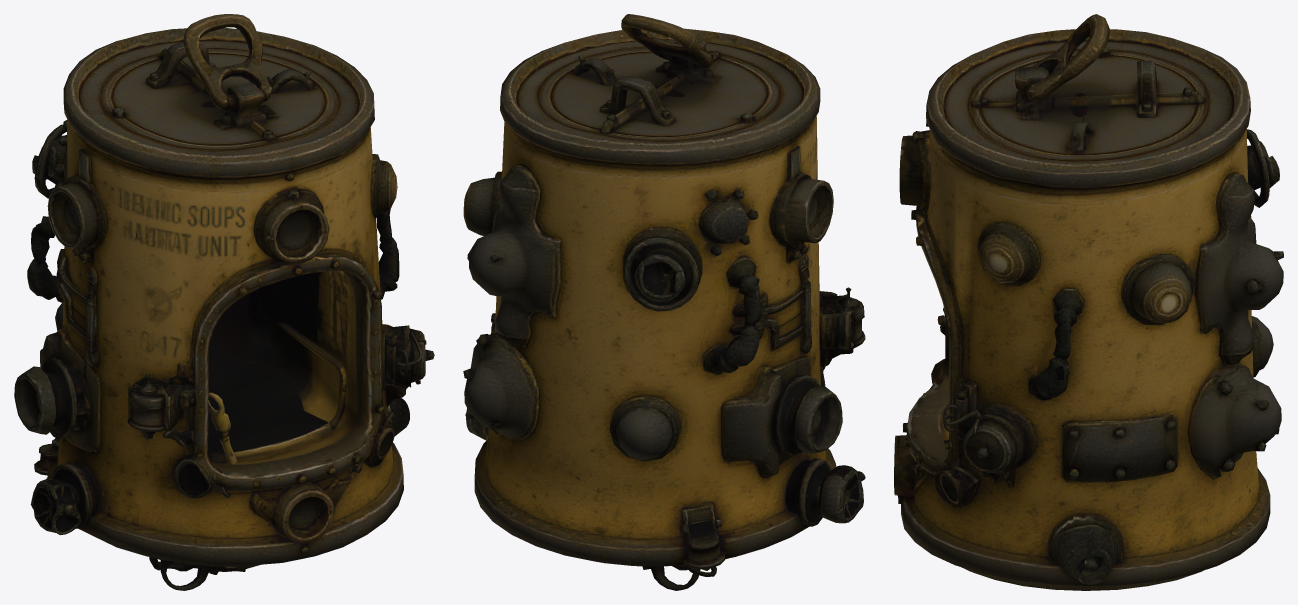
File: tinBell.glb
The picture shows the model from 3 angles, left to right: view 1: azimuth 30°, elevation 25°; view 2: azimuth 150°, elevation 25°; view 3: azimuth 270°, elevation 25°; orthographic projection. The views are drawn at different scales.
Visible parts, largest first — view 1: tripo_node_8f4e7a39-5272-4634-9eca-e5378e2a71cf; view 2: tripo_node_8f4e7a39-5272-4634-9eca-e5378e2a71cf; view 3: tripo_node_8f4e7a39-5272-4634-9eca-e5378e2a71cf.
Boxes of the visible parts, <box> form: tripo_node_8f4e7a39-5272-4634-9eca-e5378e2a71cf: <box>14,14,434,590</box>; tripo_node_8f4e7a39-5272-4634-9eca-e5378e2a71cf: <box>463,14,865,590</box>; tripo_node_8f4e7a39-5272-4634-9eca-e5378e2a71cf: <box>894,14,1283,590</box>.
Bounding box in the file's own units: 0.7499 × 1 × 0.66.
1 material, 1 textured.
